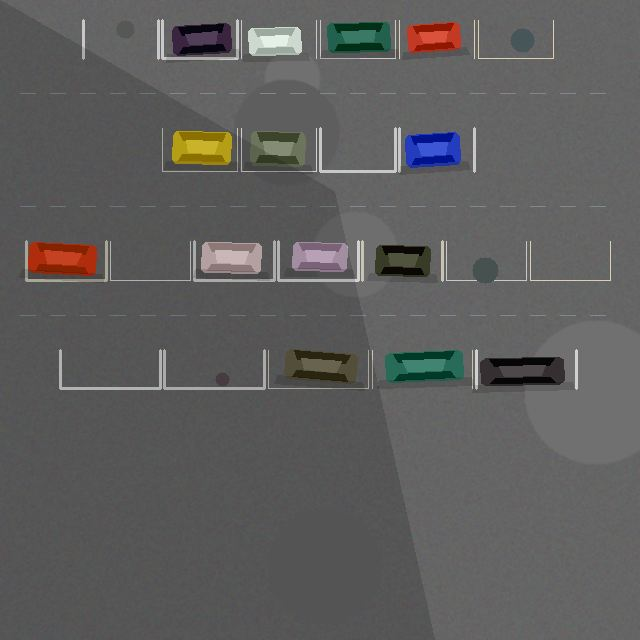space-empty: (60, 350, 160, 388), (164, 350, 264, 388), (320, 128, 395, 171), (110, 241, 190, 280), (446, 241, 526, 280), (530, 241, 610, 280), (83, 20, 158, 58), (478, 20, 553, 58)
space-occupied: (268, 350, 368, 388), (372, 350, 472, 388), (476, 350, 576, 388), (162, 128, 237, 171), (241, 128, 316, 171), (399, 128, 474, 171), (26, 241, 106, 280), (194, 241, 274, 280), (278, 241, 358, 280), (362, 241, 442, 280), (162, 20, 237, 58), (241, 20, 316, 58), (320, 20, 395, 58), (399, 20, 474, 58)
